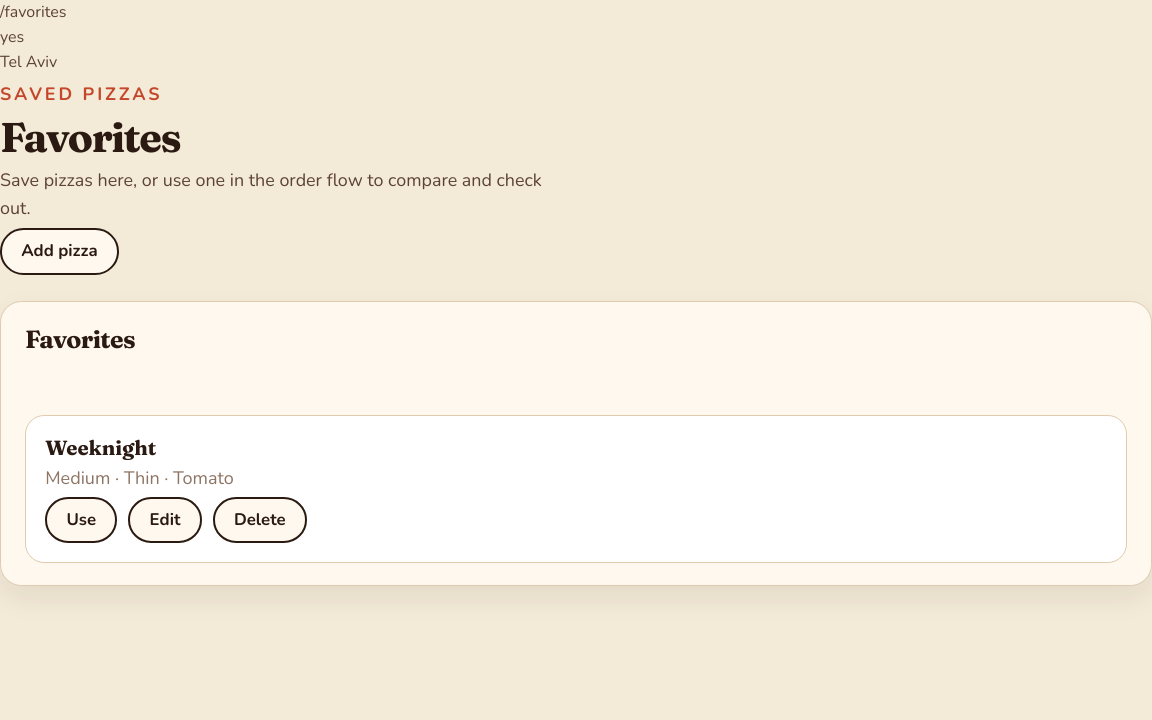
FavoritesPage › opens the favorite editor from Edit
The width and height of the screenshot is (1152, 720).
Click the button "Edit" at point(165, 520), box [128,497,202,543]
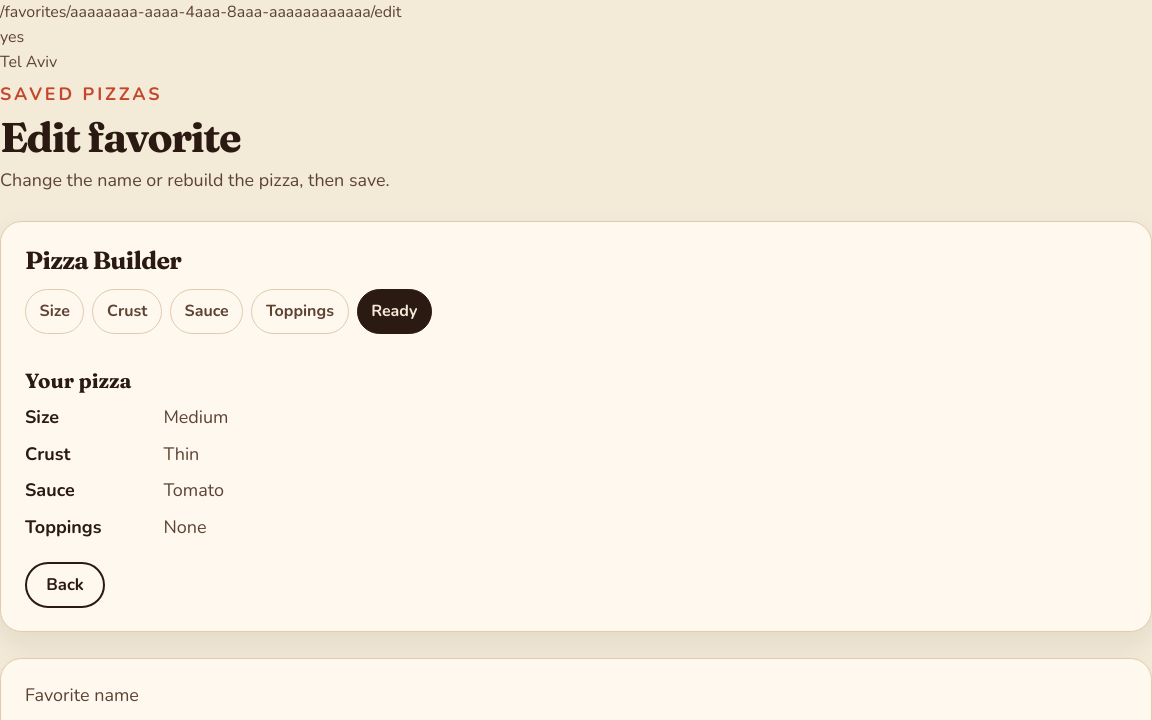
Now the heading "Edit favorite" is shown, box [0,111,240,163]
